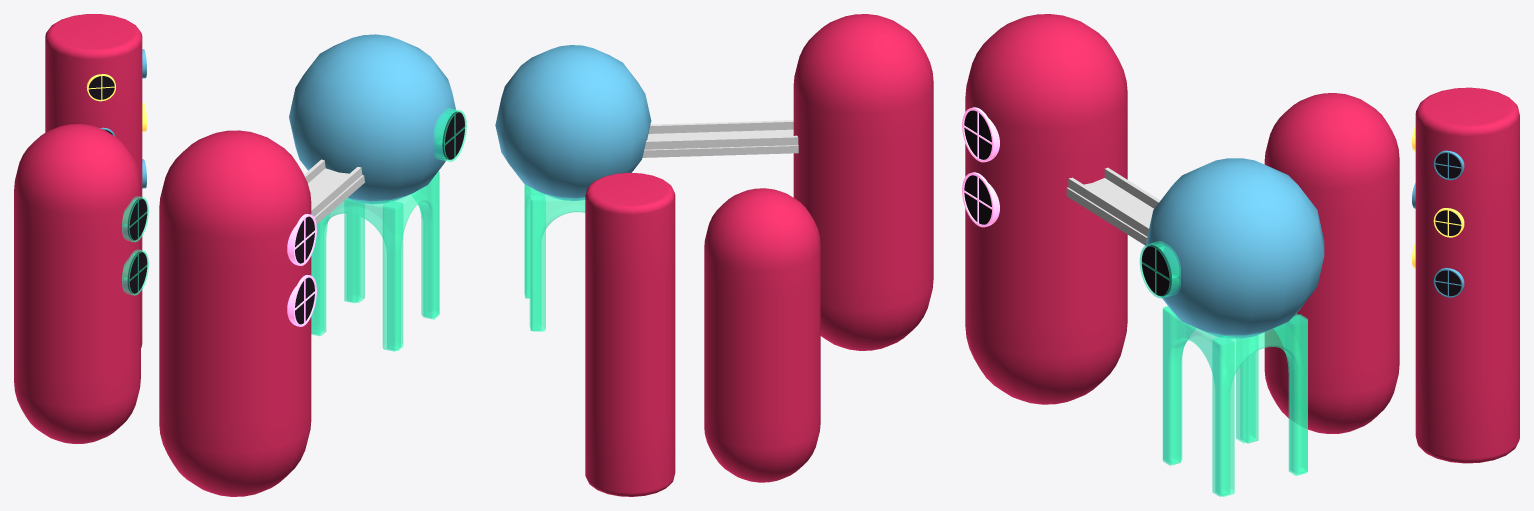
File: house3.fbx
3 renders of one model, left to right at view 1: azimuth 30°, elevation 25°; view 2: azimuth 150°, elevation 25°; view 3: azimuth 270°, elevation 25°, orthographic. The views are drawn at different scales.
Parts seen in each view (by area): view 1: Capsule_Tower_1, Capsule_Tower_2, Sphere_Tower, Cylinder_Tower, Arch_1, Arch_4, Arch_3, Arch_2, Cube, window_extrude_9, glass_9, Cube_1 (+5 smaller); view 2: Capsule_Tower_1, Capsule_Tower_2, Cylinder_Tower, Sphere_Tower, Arch_3, Arch_2, Cube, Cube_2, Cube_1, Arch_1; view 3: Capsule_Tower_1, Cylinder_Tower, Capsule_Tower_2, Sphere_Tower, Arch_3, Arch_1, Arch_2, Arch_4, Cube, glass_9, Cube_1, window_extrude_9 (+3 smaller).
Boxes of the visible parts, x1,y1,x2,y2 form: Capsule_Tower_1: (159,130,311,496); Capsule_Tower_2: (14,124,140,443); Sphere_Tower: (289,34,455,203); Cylinder_Tower: (45,14,142,347); Arch_1: (382,171,438,351); Arch_4: (311,198,403,350); Arch_3: (344,171,439,319); Arch_2: (311,203,364,336); Cube: (308,168,365,224); window_extrude_9: (433,108,466,161); glass_9: (442,111,464,159); Cube_1: (311,167,362,216); Capsule_Tower_1: (793,14,933,350); Capsule_Tower_2: (704,188,820,482); Cylinder_Tower: (585,172,675,496); Sphere_Tower: (495,45,651,200); Arch_3: (525,184,545,331); Arch_2: (529,194,585,330); Cube: (642,129,798,157); Cube_2: (644,135,798,149); Cube_1: (648,120,793,133); Arch_1: (524,184,542,298); Capsule_Tower_1: (965,14,1127,404); Cylinder_Tower: (1415,87,1519,463); Capsule_Tower_2: (1264,93,1399,433); Sphere_Tower: (1146,158,1324,338); Arch_3: (1212,314,1307,496); Arch_1: (1163,306,1234,496); Arch_2: (1236,314,1307,475); Arch_4: (1162,307,1258,465); Cube: (1066,178,1153,245); glass_9: (1141,245,1171,296); Cube_1: (1068,177,1149,236); window_extrude_9: (1140,241,1180,297).
Size of the model in its own units: 513 by 510 by 616.
